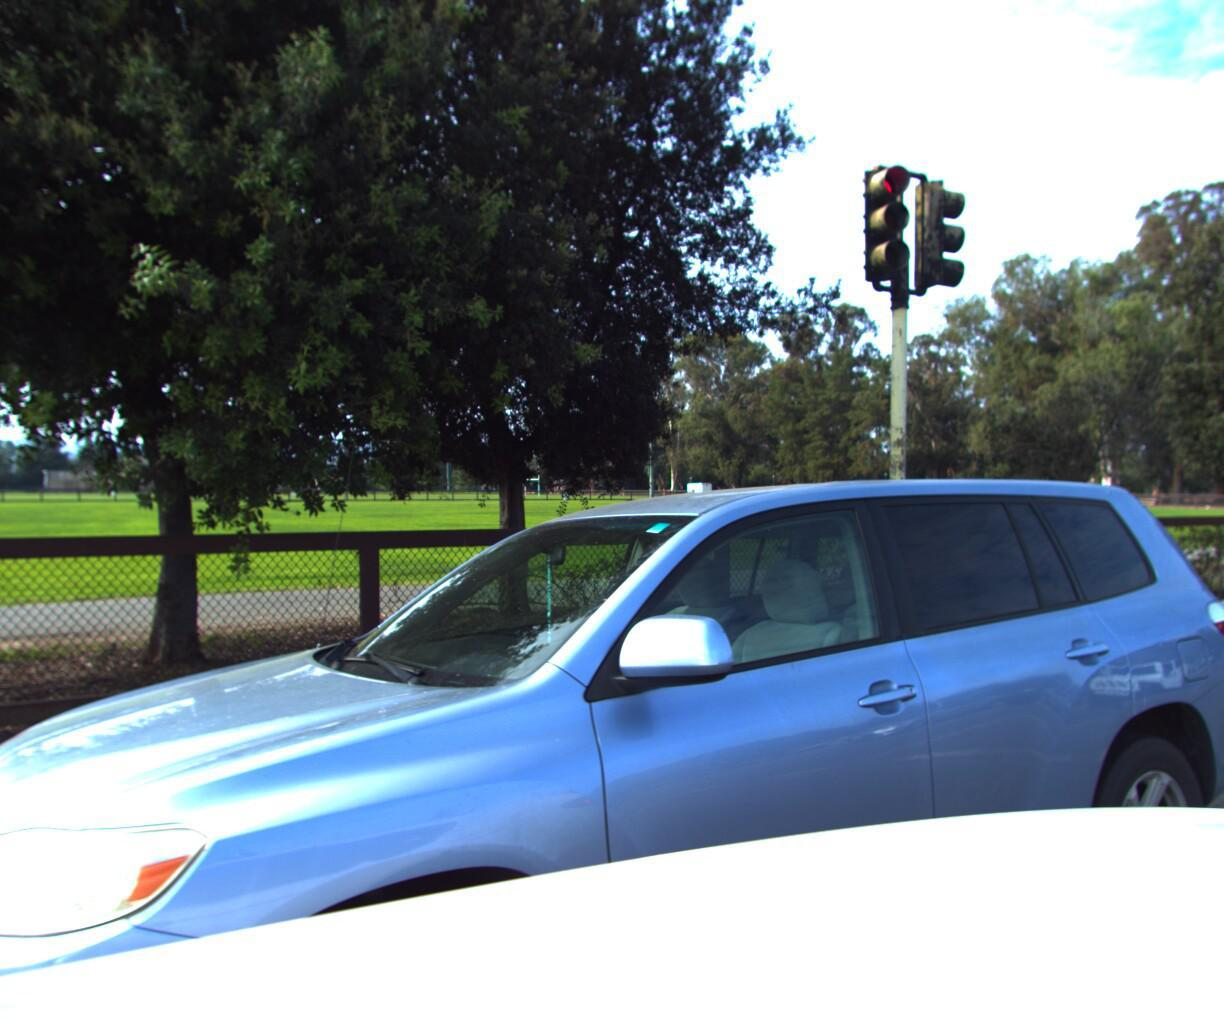car: (0, 422, 1224, 1024), (1140, 485, 1224, 811)
